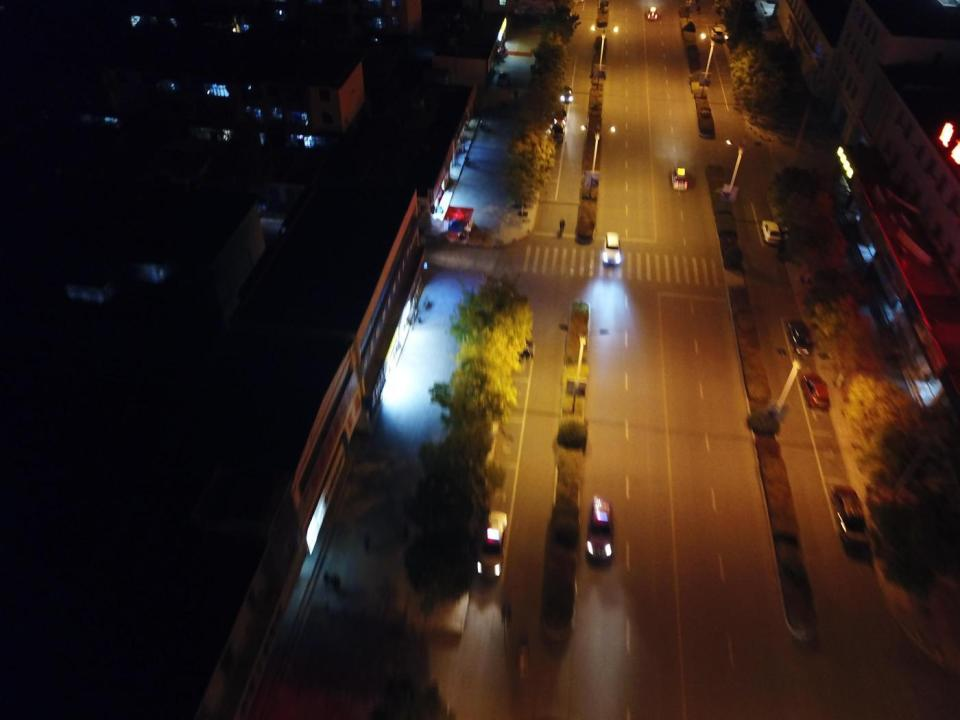car: (832, 483, 870, 554), (479, 510, 506, 579), (587, 497, 614, 562), (496, 332, 535, 360), (801, 370, 828, 410), (787, 318, 811, 355), (760, 219, 781, 245), (604, 231, 620, 265), (672, 166, 689, 190), (550, 107, 566, 124), (550, 124, 564, 143), (558, 85, 572, 102), (496, 71, 509, 86), (647, 6, 657, 20)
van: (710, 27, 723, 41)
